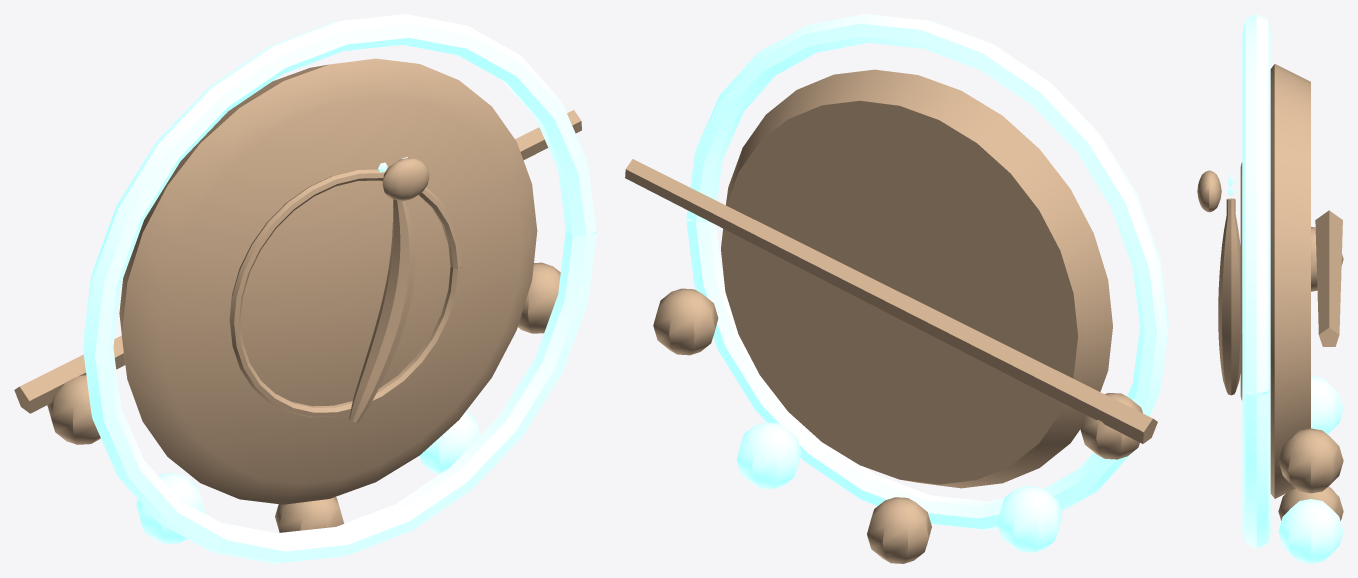
File: asc_ouroboros_fang_accessory.glb
3 renders of one model, left to right at view 1: azimuth 30°, elevation 25°; view 2: azimuth 150°, elevation 25°; view 3: azimuth 270°, elevation 25°, orthographic. The views are drawn at different scales.
Visible parts, largest first — view 1: asc_ouroboros_fang_accessory; view 2: asc_ouroboros_fang_accessory; view 3: asc_ouroboros_fang_accessory.
Boxes of the visible parts, x1,y1,x2,y2 form: asc_ouroboros_fang_accessory: [14, 14, 596, 563]; asc_ouroboros_fang_accessory: [625, 14, 1168, 563]; asc_ouroboros_fang_accessory: [1197, 14, 1343, 563].
Size of the model in its own units: 0.1616 by 0.153 by 0.0404.
